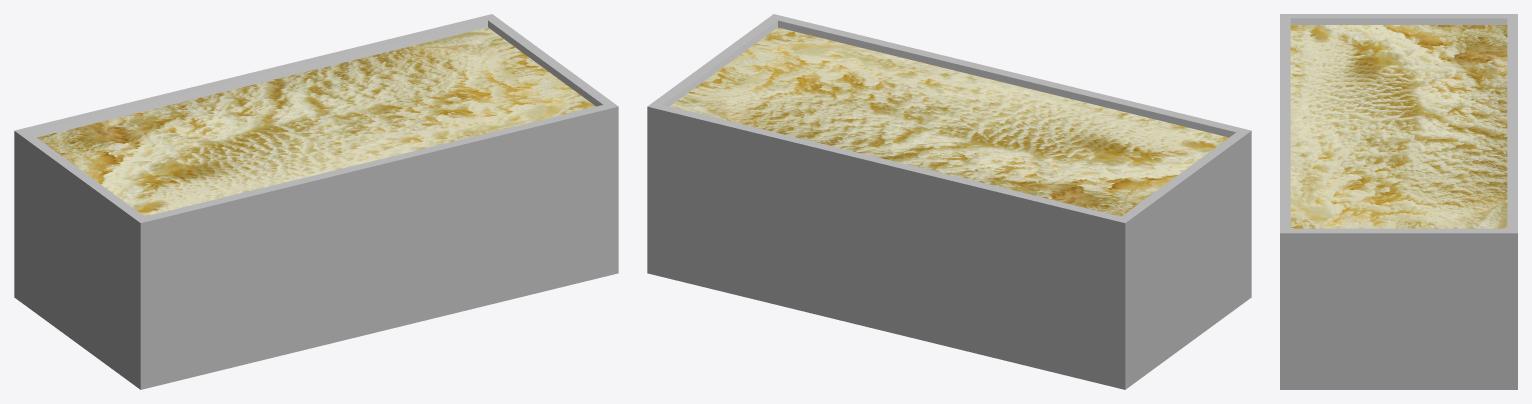
File: ice_cream_tray_vanilla.dae
3 renders of one model, left to right at view 1: azimuth 30°, elevation 25°; view 2: azimuth 150°, elevation 25°; view 3: azimuth 270°, elevation 25°, orthographic. The views are drawn at different scales.
Visible parts, largest first — view 1: SketchUp (×3); view 2: SketchUp (×3); view 3: SketchUp (×3).
Boxes of the visible parts, x1=… form: SketchUp (×3): x1=14, y1=14, x2=618, y2=389; SketchUp (×3): x1=647, y1=14, x2=1251, y2=389; SketchUp (×3): x1=1280, y1=14, x2=1517, y2=389.
Size of the model in its own units: 14.17 by 6.5 by 4.72.
